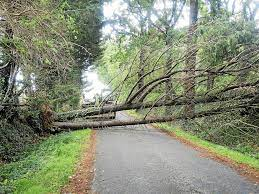obstacle: (52, 97, 234, 128)
